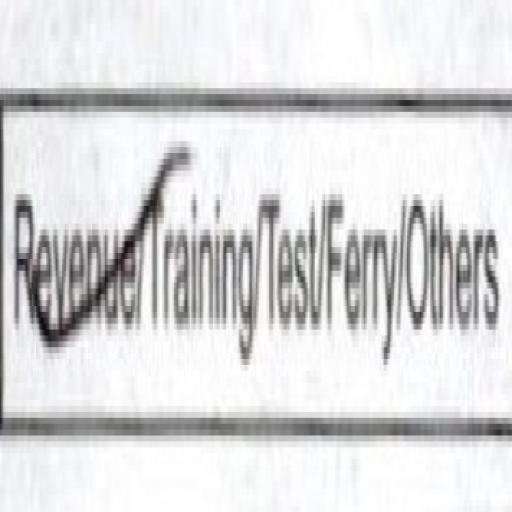check: (1, 0, 147, 418)
